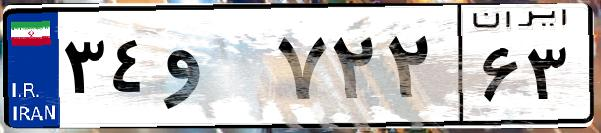2: (385, 28, 445, 110), (330, 28, 385, 110)
3: (57, 26, 110, 100), (525, 38, 570, 115)
4: (110, 28, 158, 98)
6: (475, 38, 525, 113)
7: (270, 28, 330, 110)
و: (158, 20, 270, 120)
